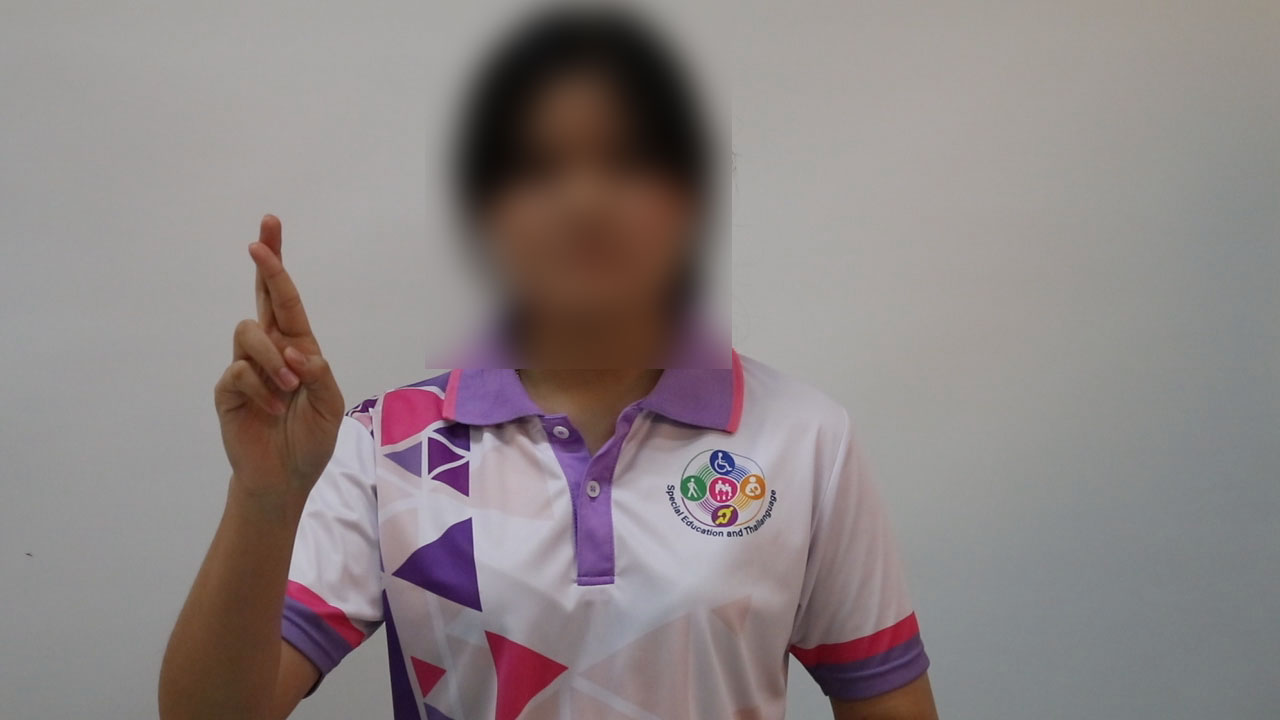rao: (186, 205, 350, 490)
